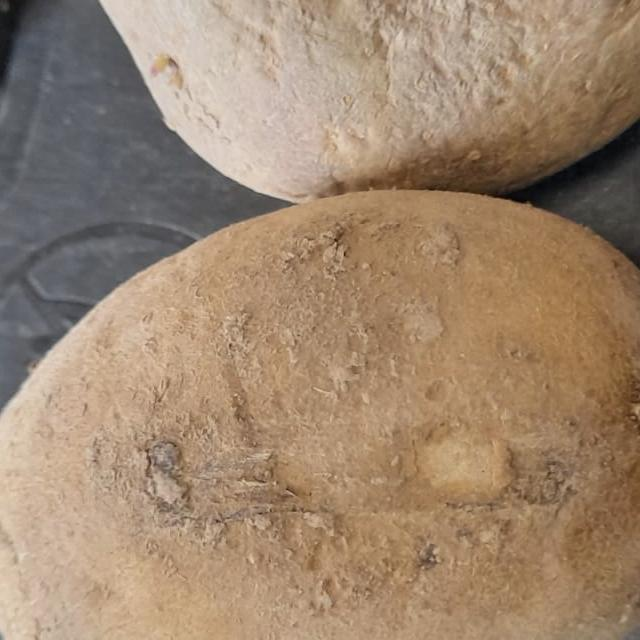potato: (0, 129, 640, 640), (0, 0, 640, 196)
